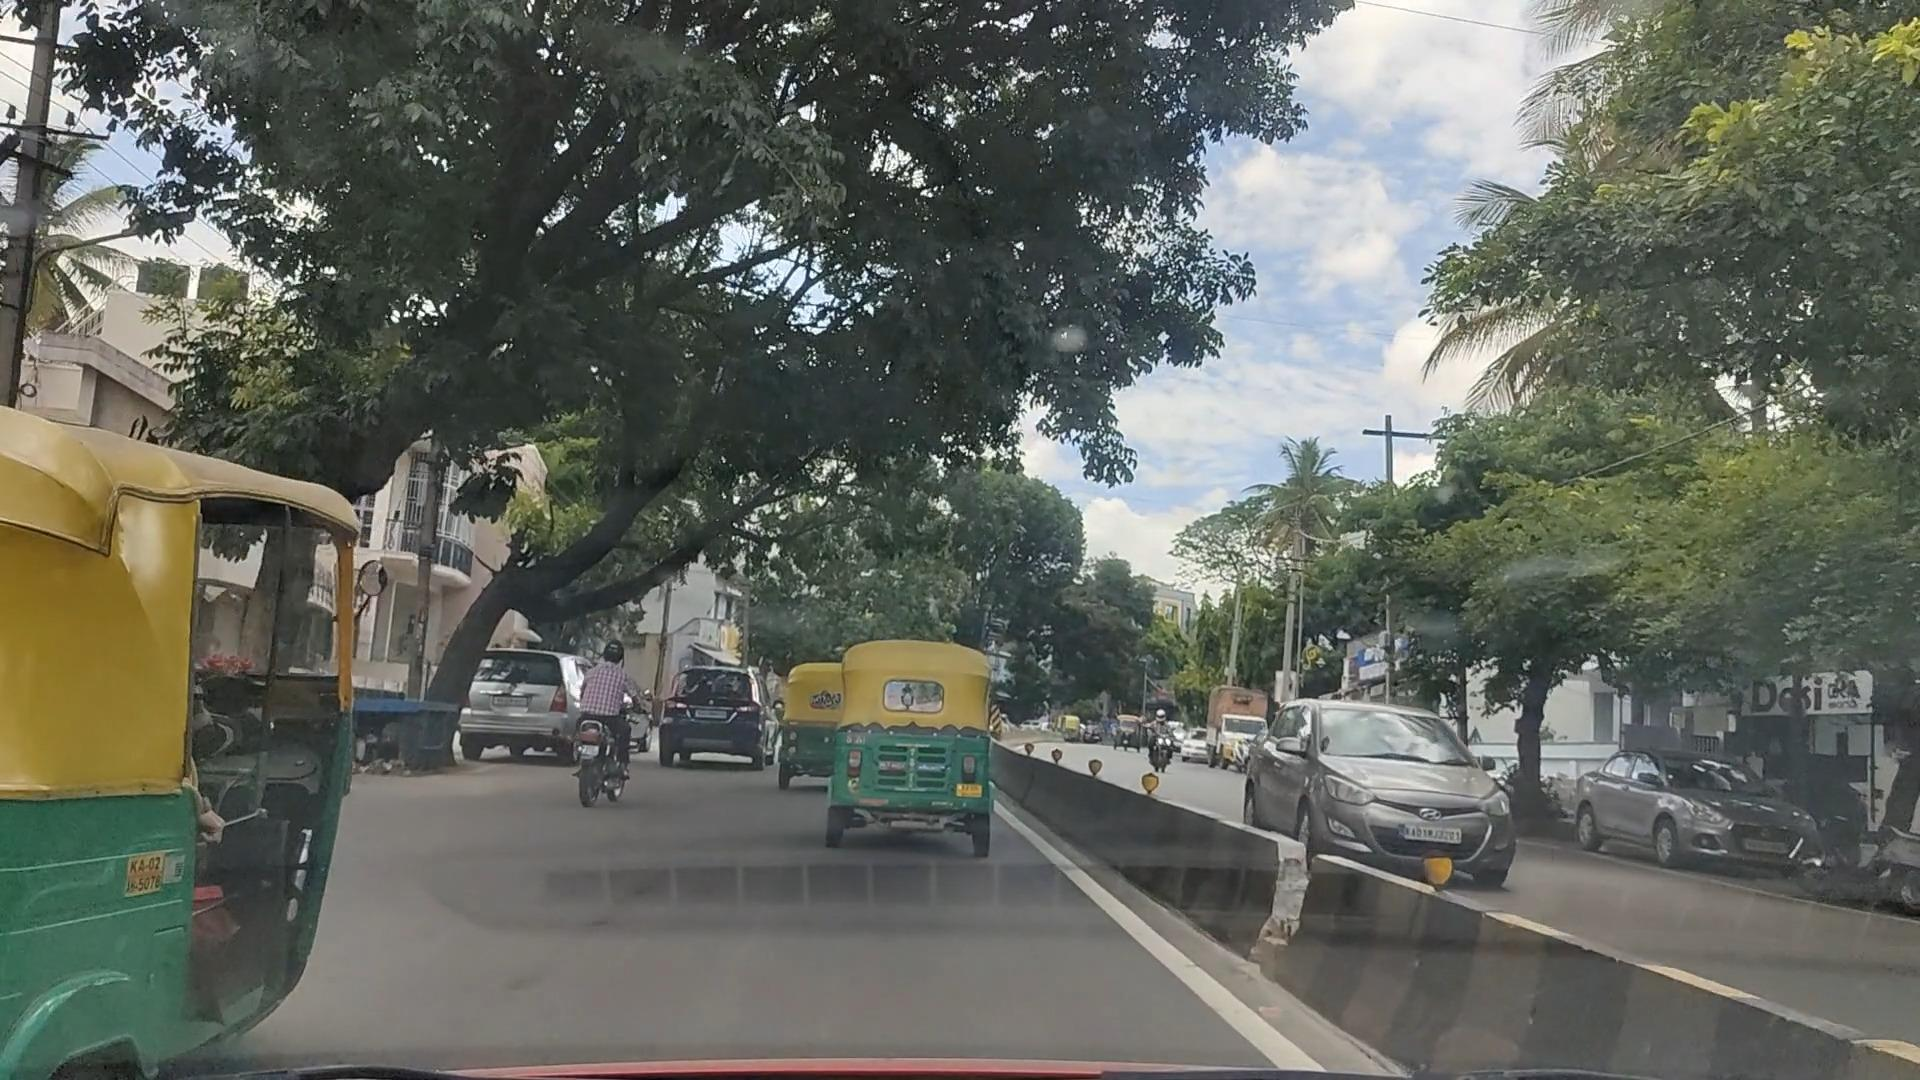LMV: (0, 410, 355, 1075), (831, 638, 989, 856), (574, 622, 645, 800), (666, 666, 775, 770), (767, 661, 841, 785)
